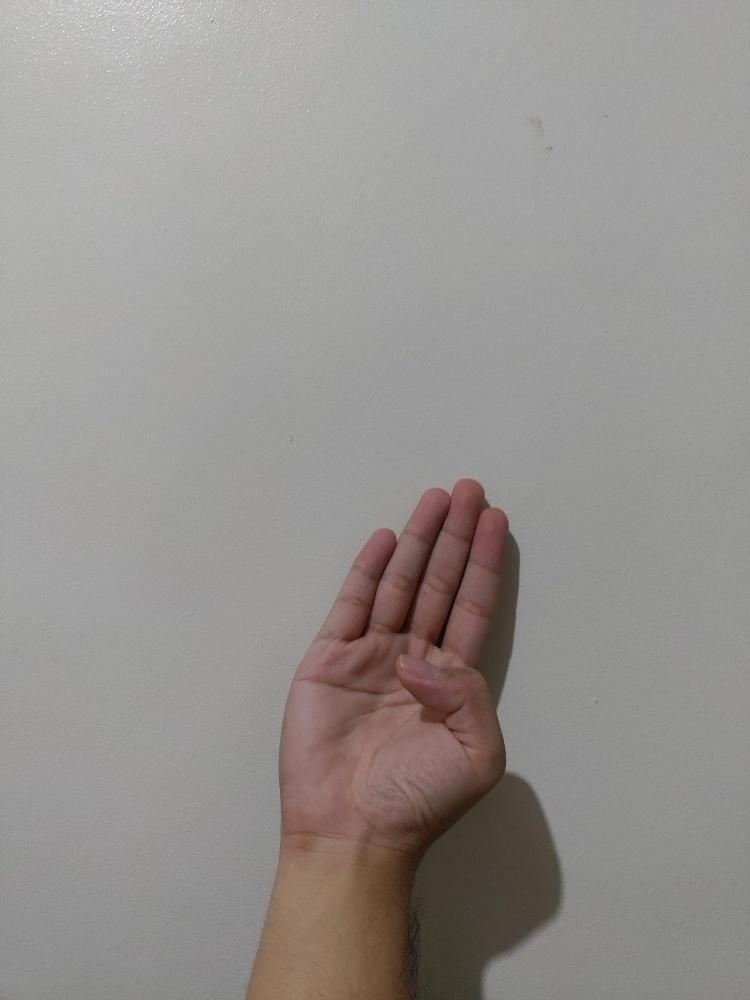b: (277, 476, 509, 845)
